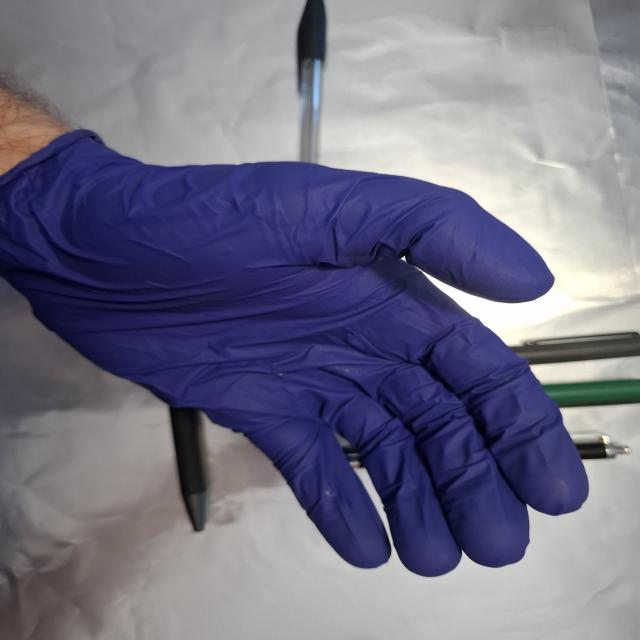glove_on: (5, 126, 592, 583)
